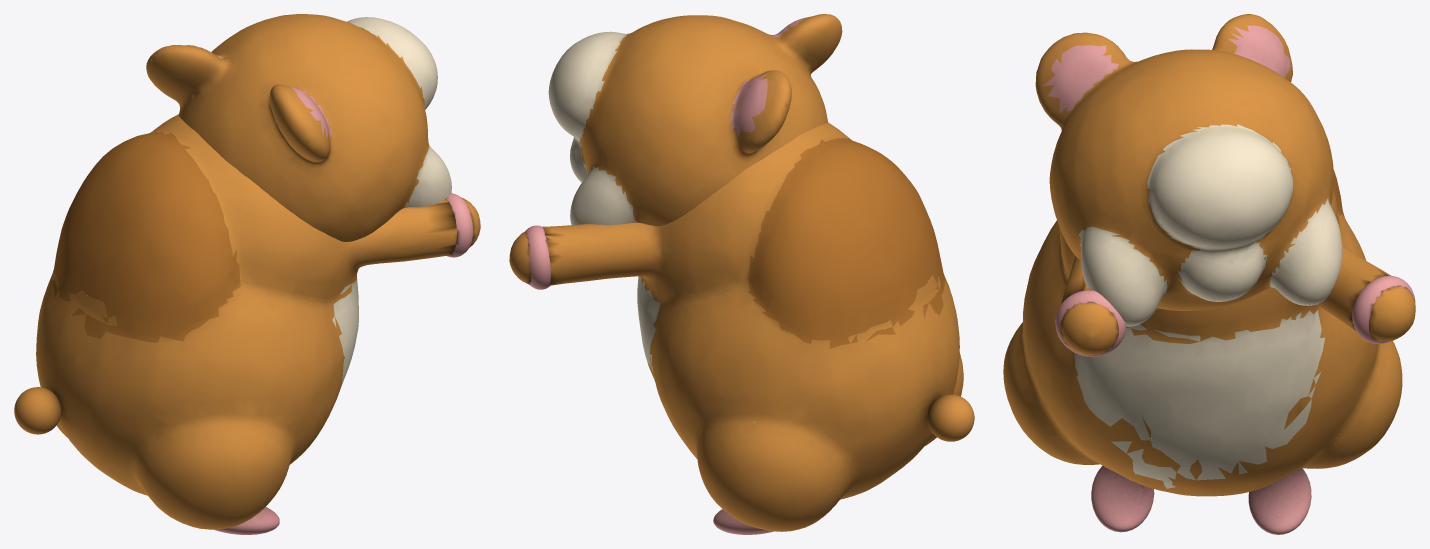
Rendered from hur-langt-ar-det.glb.
3 views of the same model, side by side, from view 1: azimuth 30°, elevation 25°; view 2: azimuth 150°, elevation 25°; view 3: azimuth 270°, elevation 25° (orthographic). The views are drawn at different scales.
Parts seen in each view (by area): view 1: hamster__r0, cabeca__r0, hamster__r5, hamster__r1, hamster__r3; view 2: hamster__r0, cabeca__r0, hamster__r5, hamster__r2, hamster__r4; view 3: cabeca__r0, hamster__r0, hamster__r4, hamster__r3, hamster__r2, hamster__r1.
Part boxes in pixels (x1,y1,x2,y2): hamster__r0: [36, 114, 480, 529]; cabeca__r0: [146, 14, 451, 241]; hamster__r5: [14, 387, 61, 434]; hamster__r1: [446, 193, 472, 257]; hamster__r3: [214, 507, 279, 534]; hamster__r0: [509, 122, 963, 531]; cabeca__r0: [548, 14, 842, 226]; hamster__r5: [927, 394, 974, 441]; hamster__r2: [526, 225, 551, 289]; hamster__r4: [713, 509, 773, 534]; cabeca__r0: [1035, 14, 1342, 326]; hamster__r0: [1003, 170, 1415, 496]; hamster__r4: [1248, 468, 1311, 534]; hamster__r3: [1091, 466, 1154, 532]; hamster__r2: [1352, 275, 1415, 343]; hamster__r1: [1055, 290, 1126, 356].
Size of the model in its own units: 1 by 1.07 by 0.7857.
